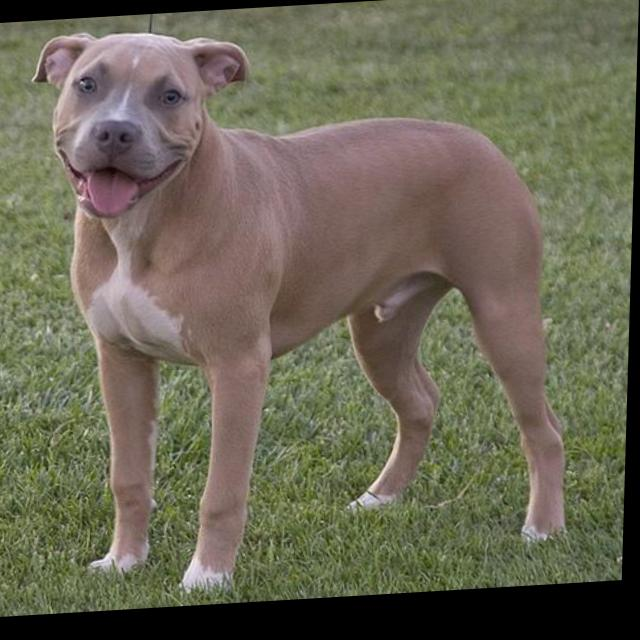amstaff: (19, 8, 584, 606)
